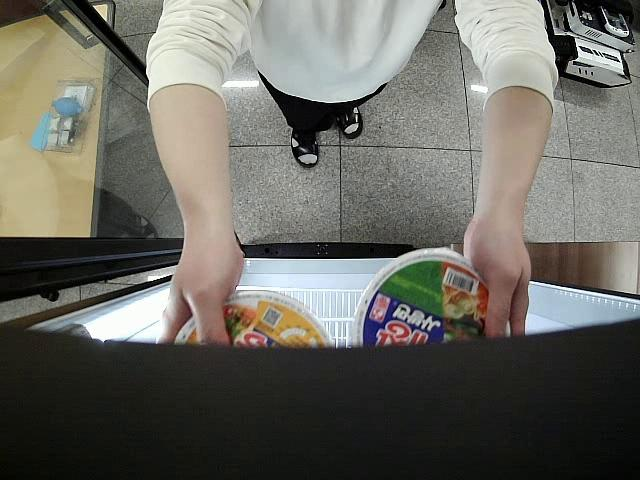00_hand: (157, 237, 245, 347), (462, 220, 533, 343)
09_yukGaeJang: (351, 249, 511, 351), (175, 287, 337, 353)
